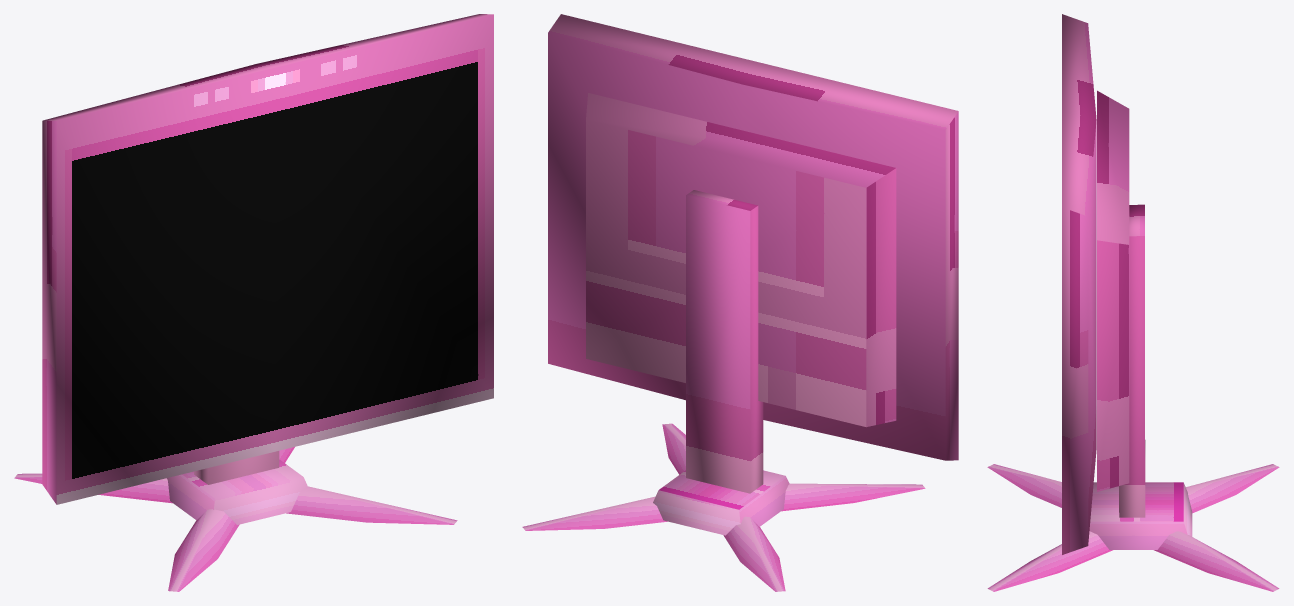
3 views of the same model, side by side, from view 1: azimuth 30°, elevation 25°; view 2: azimuth 150°, elevation 25°; view 3: azimuth 270°, elevation 25° (orthographic). The views are drawn at different scales.
Visible parts, largest first — view 1: 3500IMEL01_17; view 2: 3500IMEL01_17; view 3: 3500IMEL01_17.
Part boxes in pixels (box(x1,y1,x2,y2)): 3500IMEL01_17: box(14, 14, 493, 591); 3500IMEL01_17: box(522, 14, 958, 591); 3500IMEL01_17: box(987, 14, 1279, 591).
Bounding box in the file's own units: 0.8501 × 0.8557 × 0.5435.
Materials: 4 (4 with a texture image).
